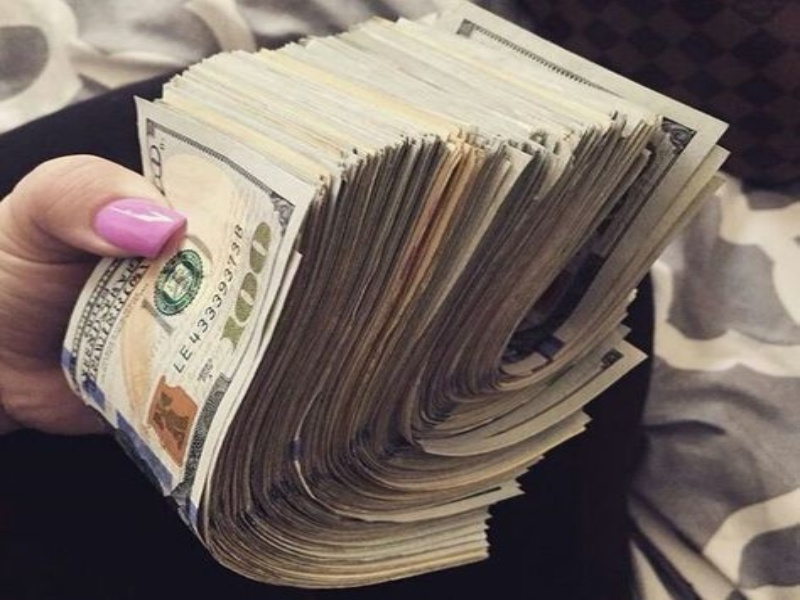cash: (59, 1, 729, 588)
